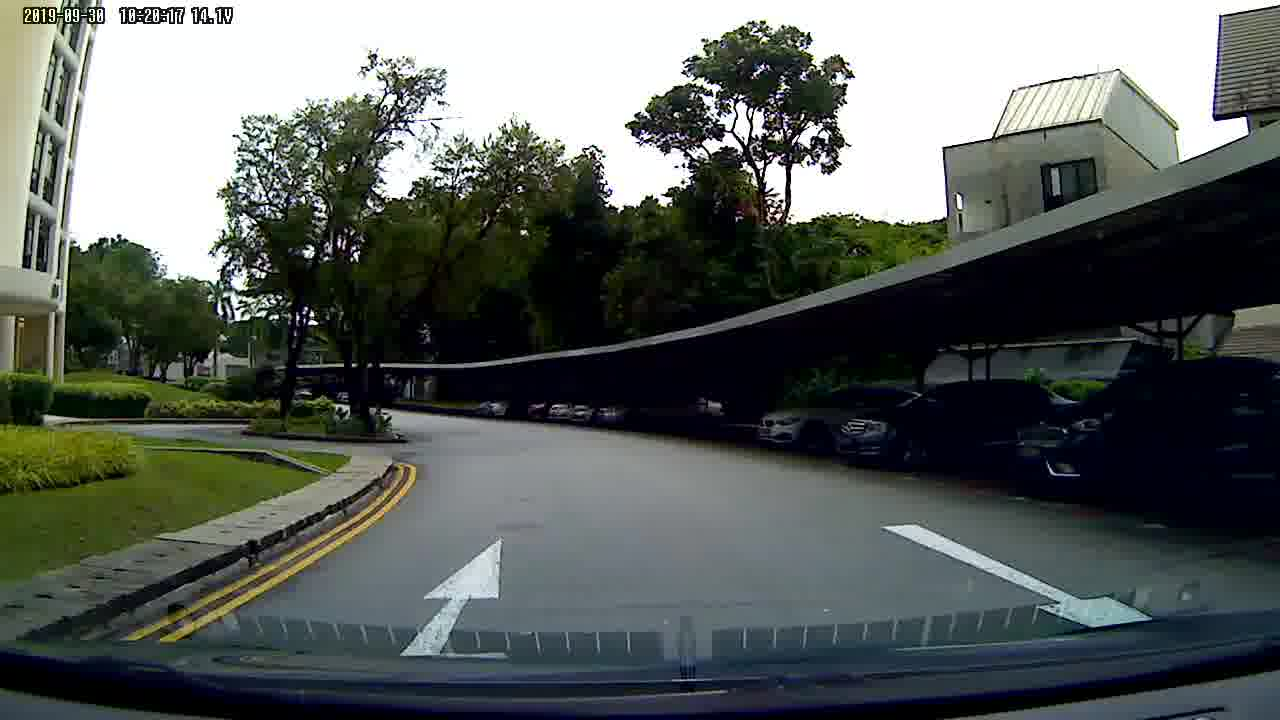car: (1007, 359, 1280, 509), (837, 377, 1014, 469)
